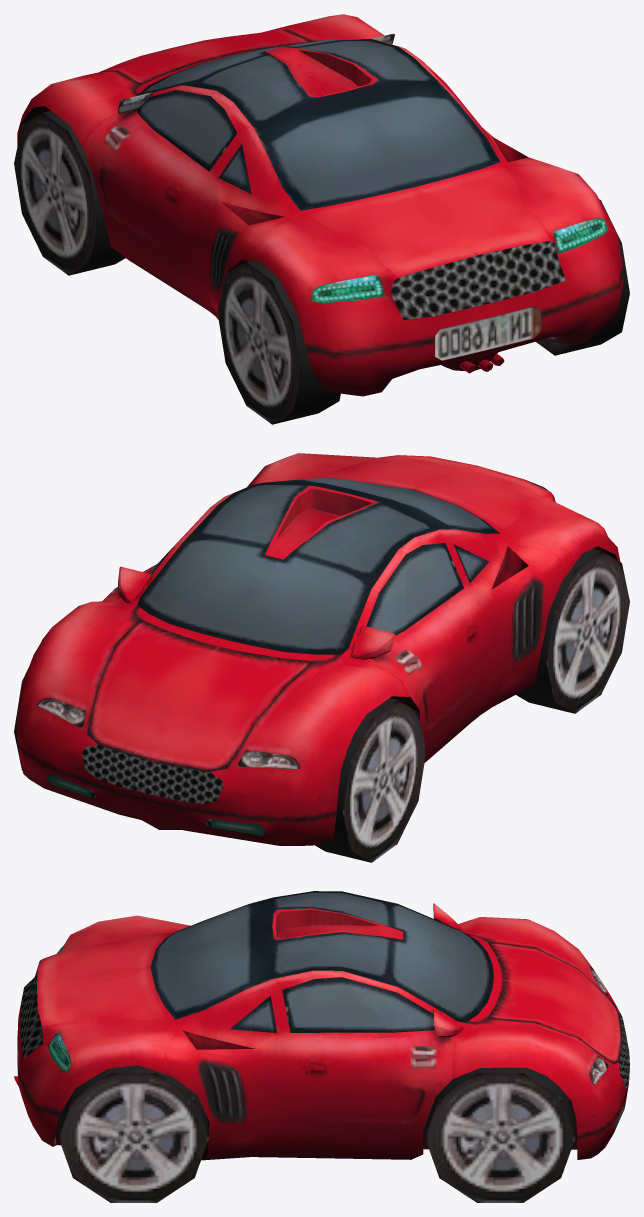
Rendered from furni_0200921.FBX.
3 views of the same model, one above another, from view 1: azimuth 30°, elevation 25°; view 2: azimuth 150°, elevation 25°; view 3: azimuth 270°, elevation 25° (orthographic). The views are drawn at different scales.
Visible parts, largest first — view 1: furni_0200921; view 2: furni_0200921; view 3: furni_0200921.
Part boxes in pixels (x1,y1,x2,y2): furni_0200921: [14, 14, 629, 424]; furni_0200921: [14, 453, 629, 862]; furni_0200921: [14, 891, 629, 1202].
Bounding box in the file's own units: 197 × 132 × 354.
1 material, 1 textured.
